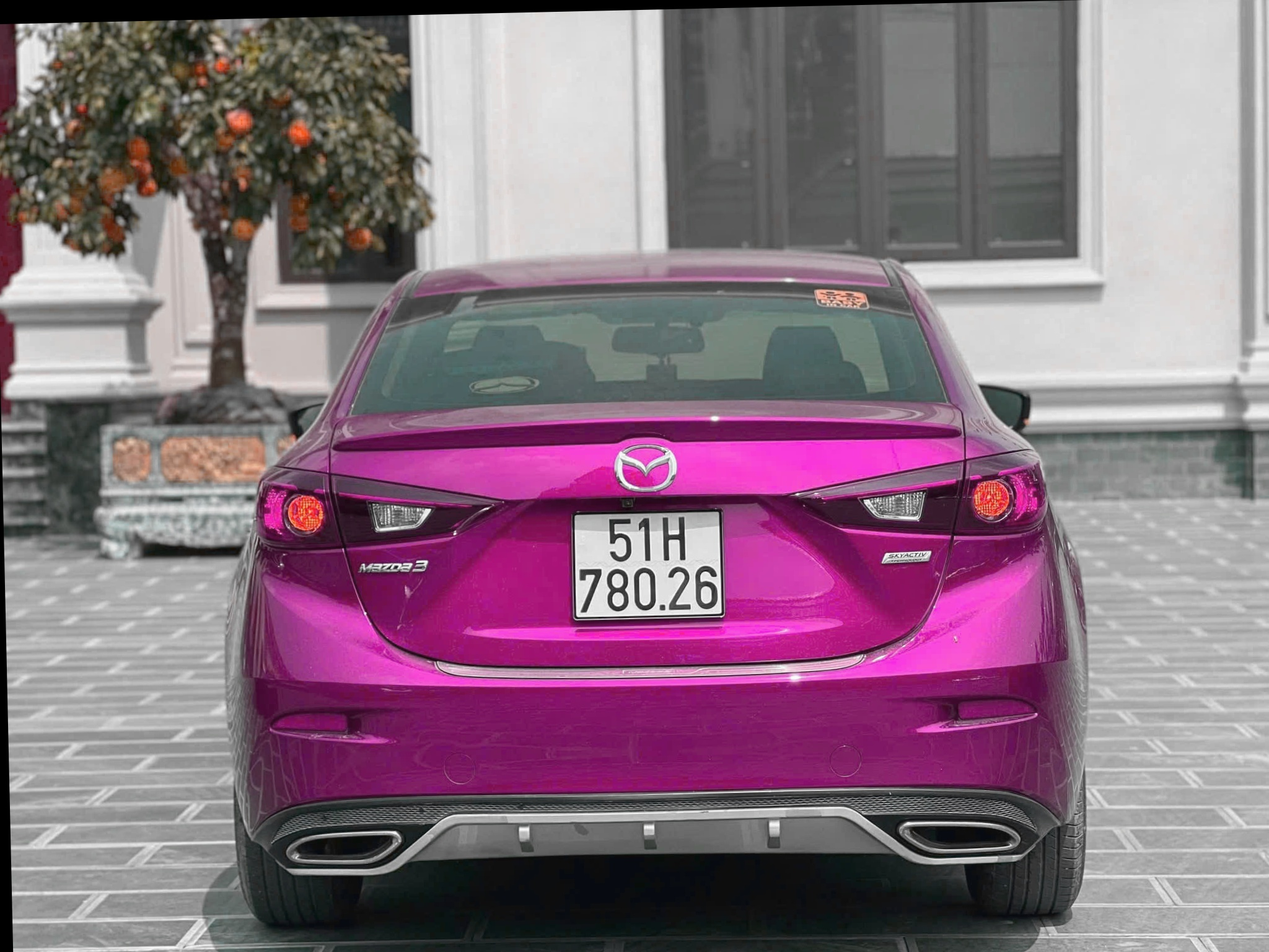Bien-so: (533, 469, 679, 596)
